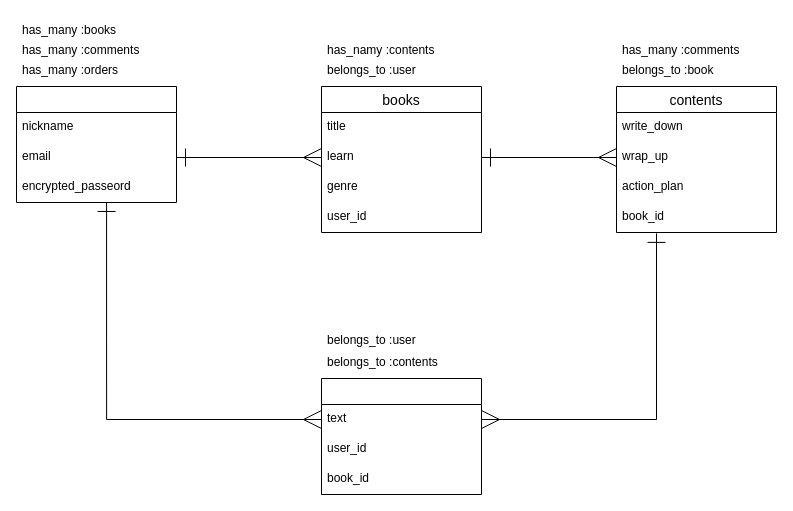
This 793x511 diagram has some shape labels left out. Each missing label, with the box of its shape:
comments: (320, 378, 482, 494)
users: (16, 86, 176, 202)
